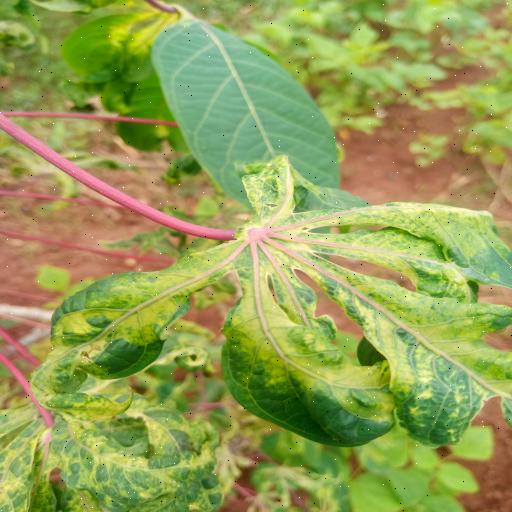Cassava_Mosaic: (30, 151, 512, 457)
